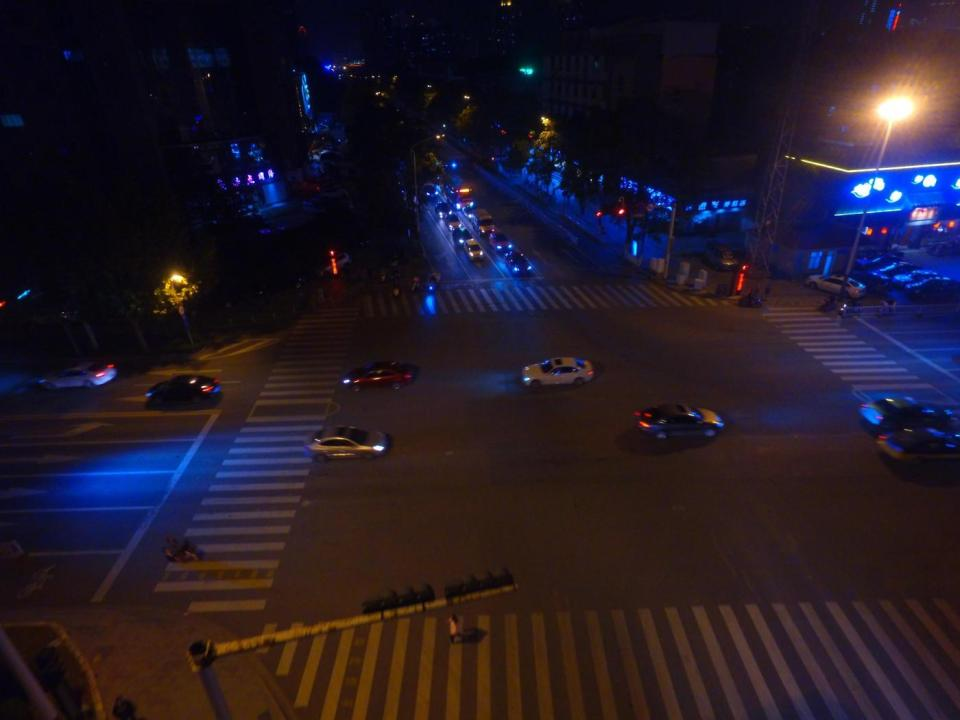bus: (445, 174, 474, 210)
car: (879, 430, 957, 477), (860, 395, 944, 434), (301, 427, 389, 464), (634, 407, 723, 443), (34, 358, 117, 391), (337, 362, 419, 391), (522, 357, 594, 390), (143, 373, 220, 403), (805, 272, 867, 298), (908, 278, 960, 304), (853, 252, 911, 273), (841, 267, 891, 290), (872, 262, 924, 282), (893, 271, 944, 291), (506, 252, 534, 277), (490, 231, 513, 254), (453, 228, 473, 250), (444, 214, 464, 234), (434, 201, 454, 221), (464, 240, 483, 261), (420, 182, 440, 199), (463, 203, 479, 222)
van: (705, 244, 738, 272), (471, 208, 496, 236)
